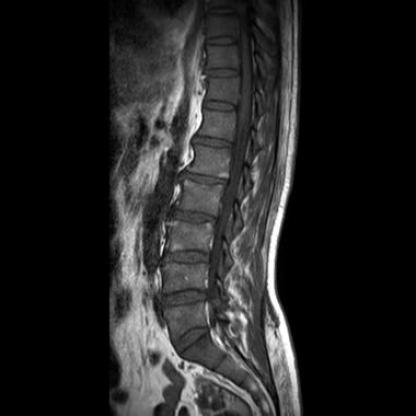Annular Tearrotation: (159, 288, 206, 309)
Disc Bulgerotation: (159, 288, 206, 308), (159, 248, 210, 265), (166, 208, 217, 224)
Disc Protrusionrotation: (178, 169, 226, 187)
